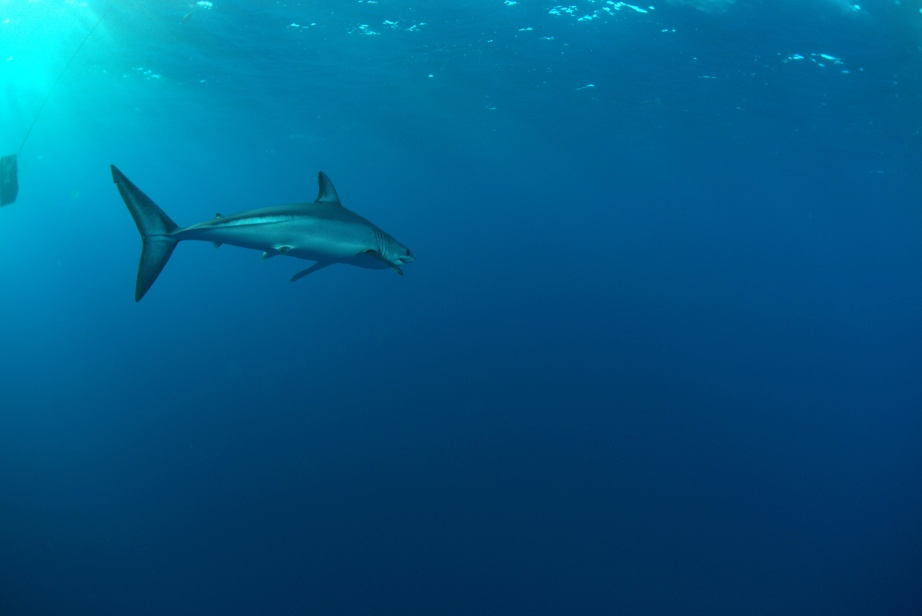Mako: (91, 140, 436, 311)
